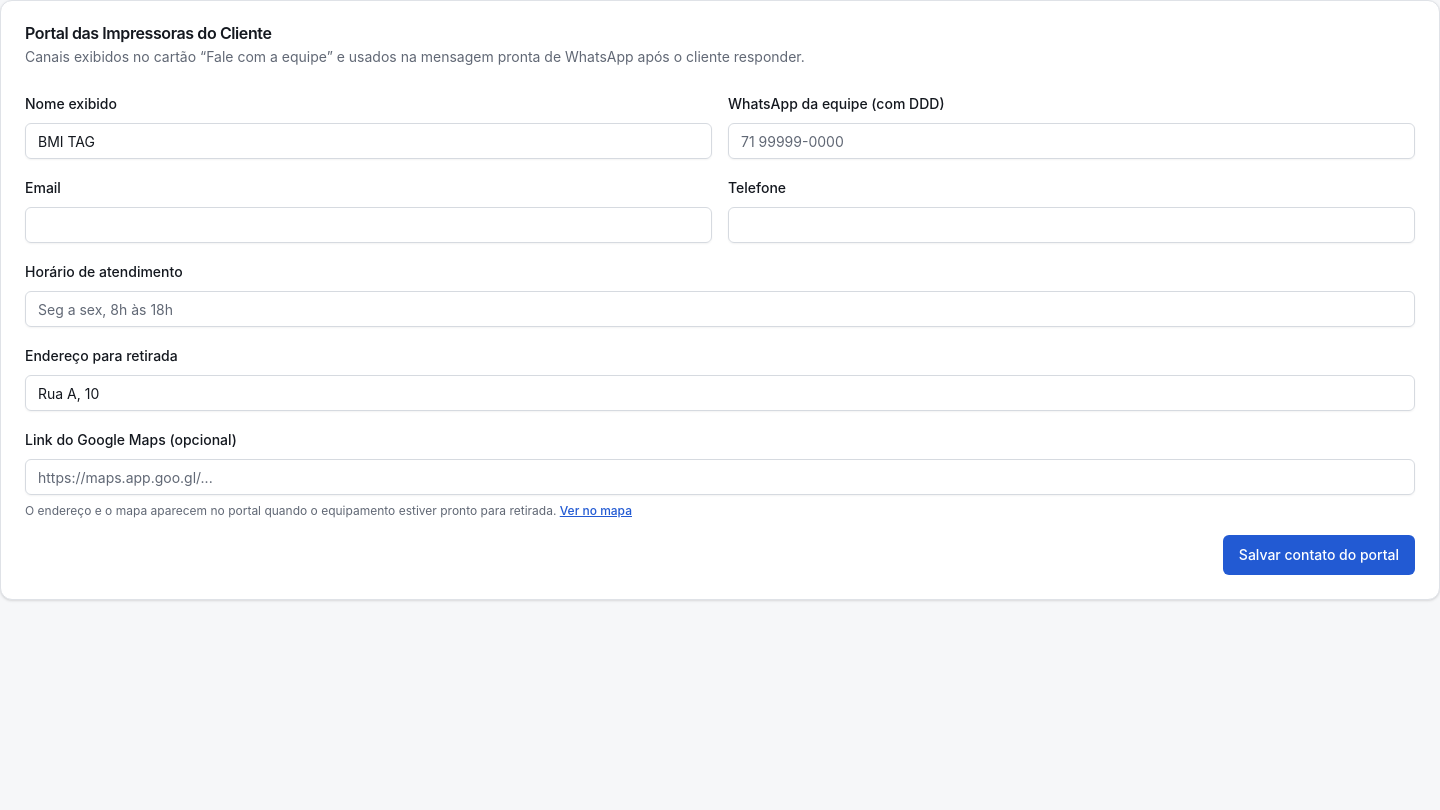
Test case: PortalContatoEmpresaCard: endereço e mapa › não salva link inválido e mostra a mensagem
Type "http://inseguro.com" into the field labelled "Link do Google Maps (opcional)".
click(720, 477); type("http://inseguro.com")  # box x1=25 y1=459 x2=1415 y2=495
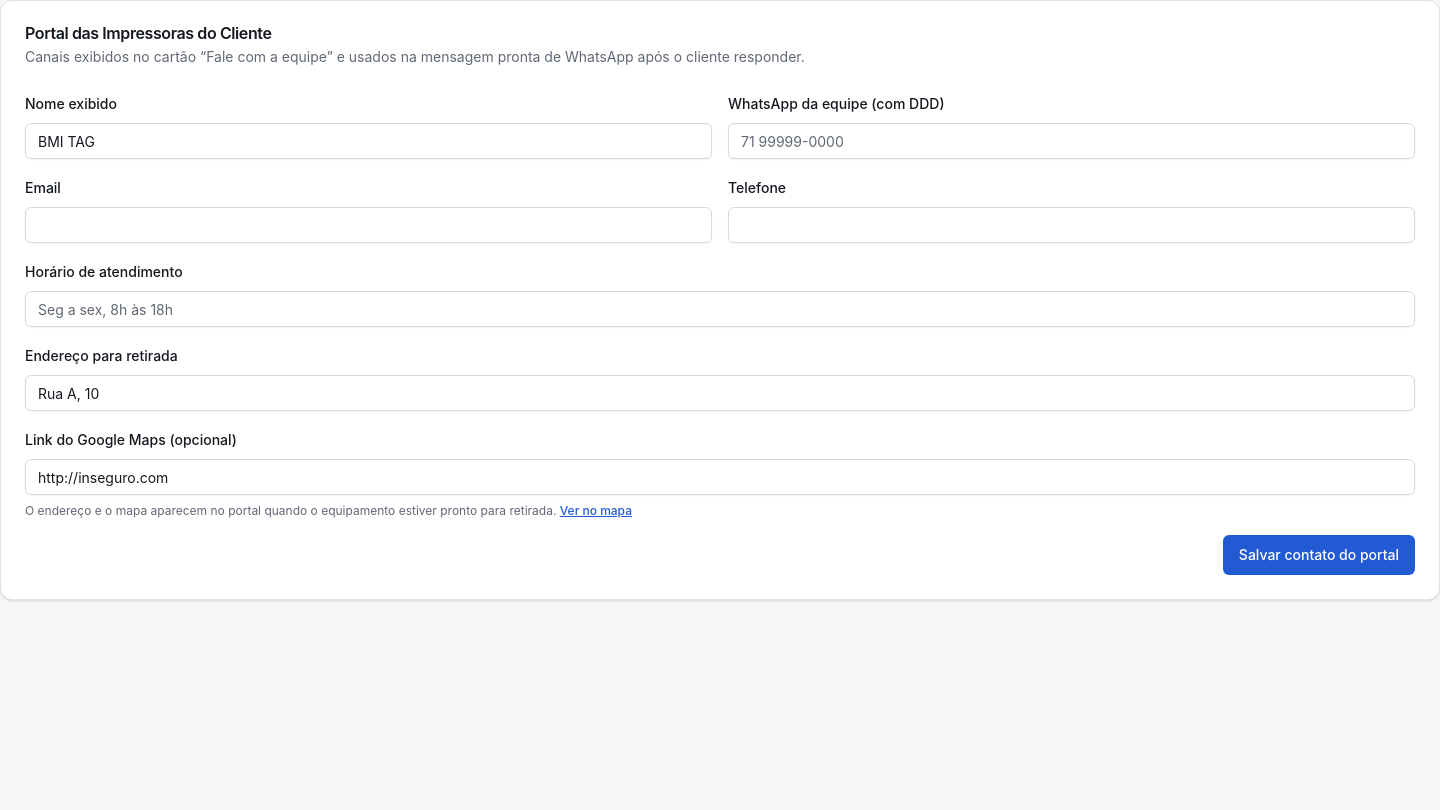
Click the button "Salvar contato do portal".
click(1319, 555)  # box x1=1223 y1=535 x2=1415 y2=575
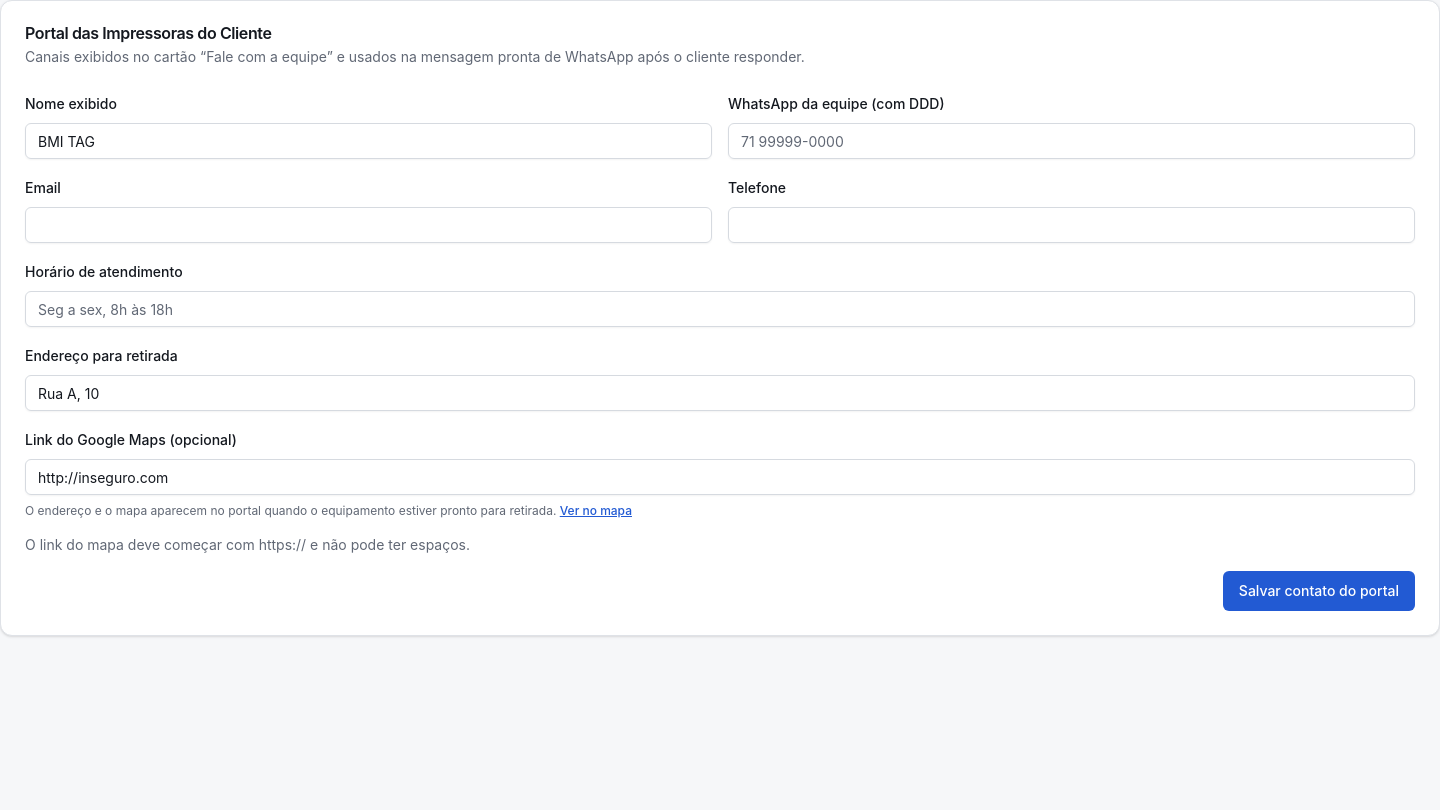
Expected: the text "começar com https" is shown, x1=25 y1=536 x2=470 y2=553
